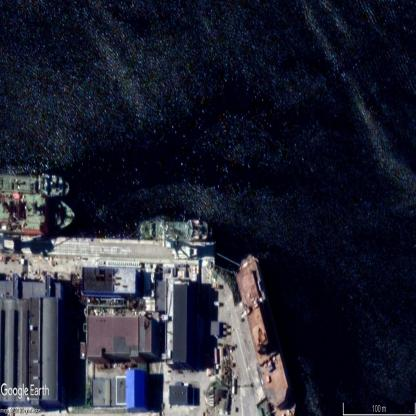ship: (236, 256, 298, 416), (1, 198, 75, 230), (140, 218, 210, 242), (1, 173, 70, 196)
